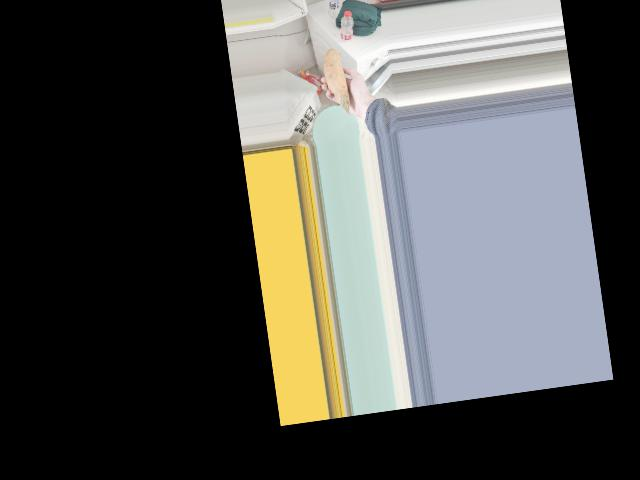sweet_potato: (321, 53, 352, 109)
